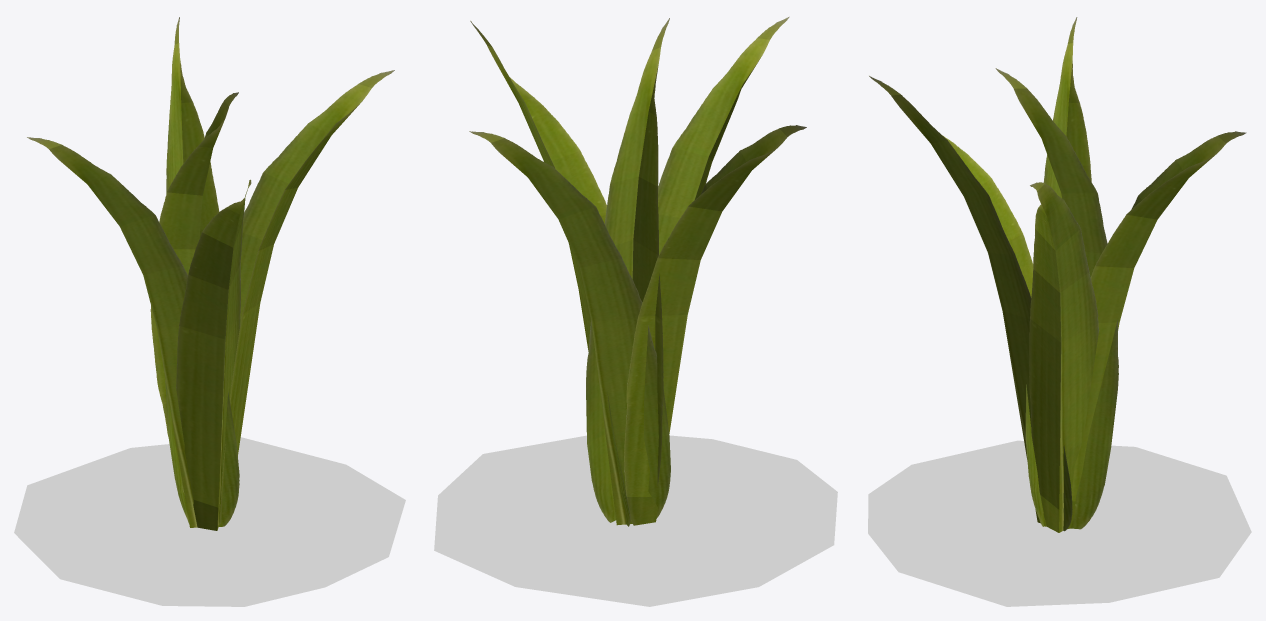
Rendered from Plant_3.fbx.
3 views of the same model, side by side, from view 1: azimuth 30°, elevation 25°; view 2: azimuth 150°, elevation 25°; view 3: azimuth 270°, elevation 25° (orthographic). The views are drawn at different scales.
Parts seen in each view (by area): view 1: Plane015, Group002; view 2: Group002, Plane015; view 3: Group002, Plane015.
Boxes of the visible parts, x1,y1,x2,y2 form: Plane015: (14,437,405,606); Group002: (27,17,394,530); Group002: (469,16,806,526); Plane015: (434,435,837,606); Group002: (869,17,1246,532); Plane015: (868,440,1251,606).
Size of the model in its own units: 35.22 by 47.39 by 33.63.
1 material, 1 textured.
